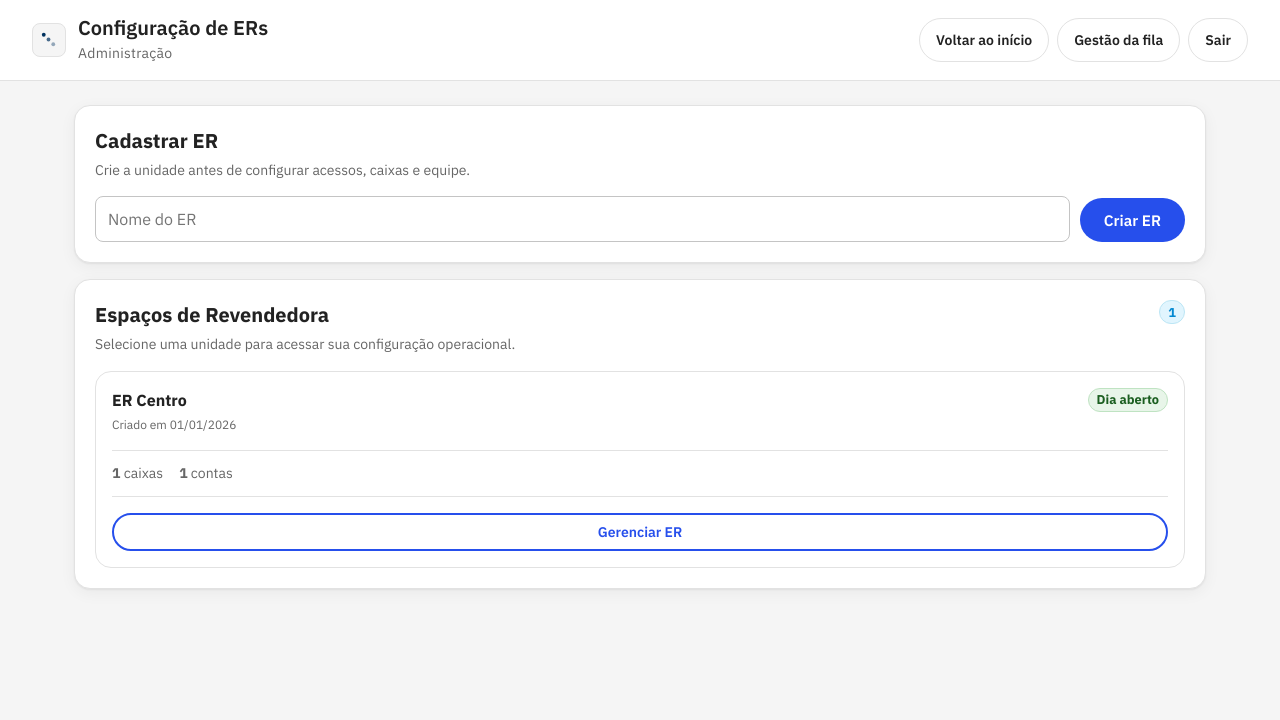
Test: AdminPage — ER management › fills the lowest free number when there is a gap
Click the button "Gerenciar ER".
click(640, 532)  # box [112,513,1168,551]
(page scrolled)
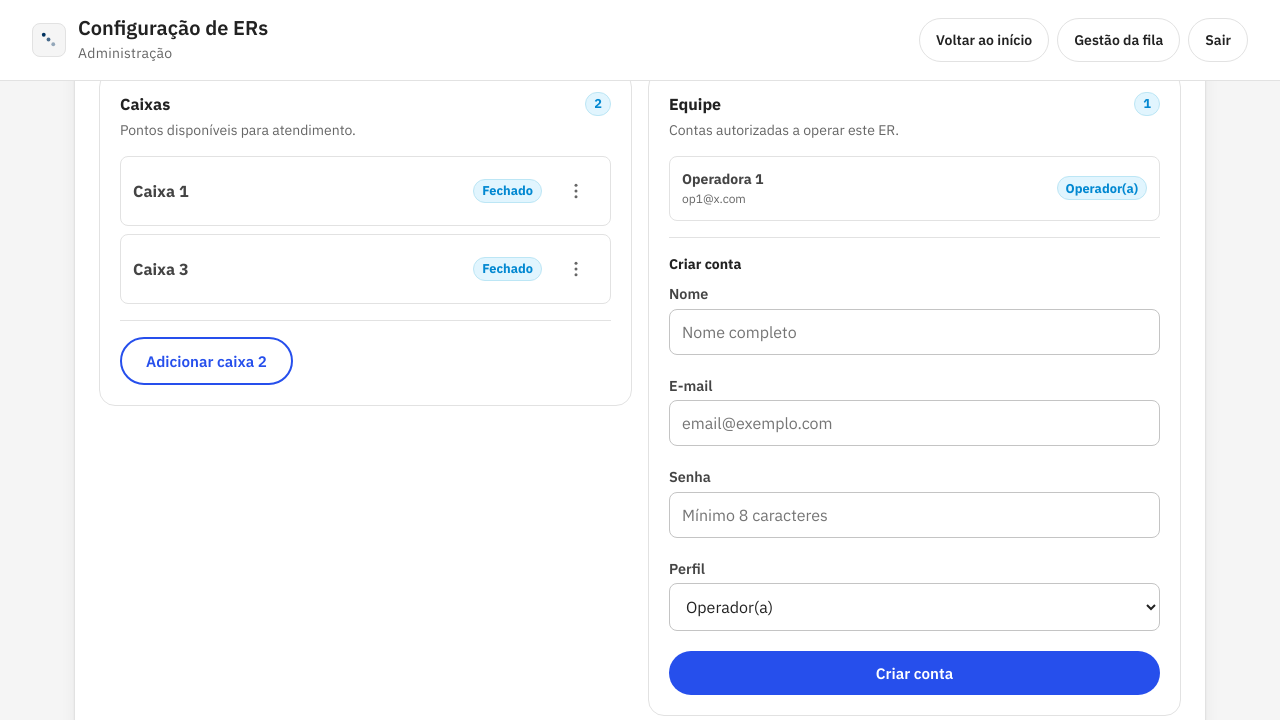
Check: the button "Adicionar caixa 2" is shown, box [120,337,293,385]
